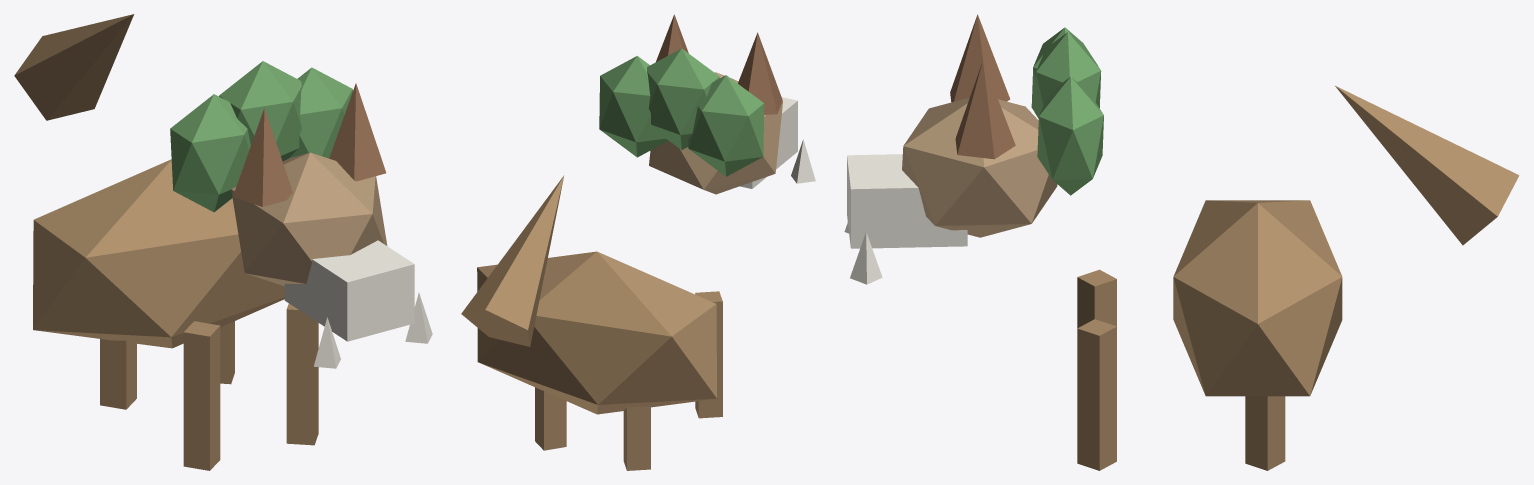
File: npcpose_wolf_attack_13.glb
The picture shows the model from 3 angles, left to right: view 1: azimuth 30°, elevation 25°; view 2: azimuth 150°, elevation 25°; view 3: azimuth 270°, elevation 25°; orthographic projection. The views are drawn at different scales.
Parts seen in each view (by area): view 1: npcpose; view 2: npcpose; view 3: npcpose.
Part boxes in pixels (box(x1,y1,x2,y2)): npcpose: box(14, 14, 432, 470); npcpose: box(461, 14, 815, 470); npcpose: box(844, 14, 1519, 470).
Bounding box in the file's own units: 0.8873 × 1.22 × 1.85.
